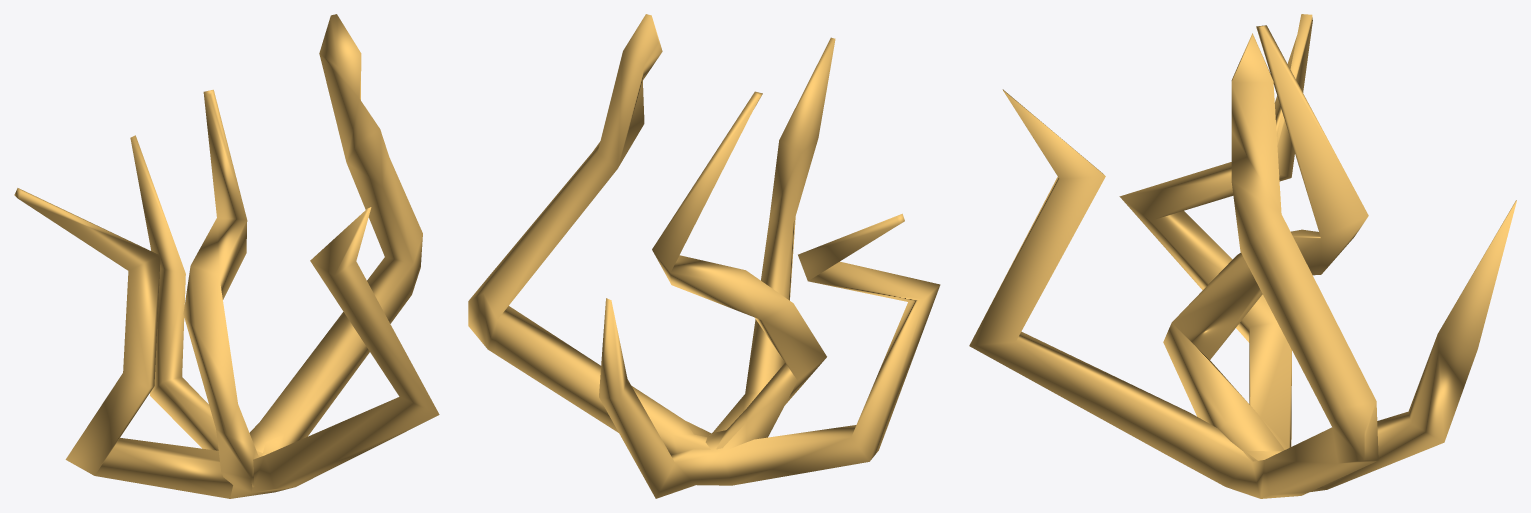
Rendered from Tumbleweed.fbx.
3 views of the same model, side by side, from view 1: azimuth 30°, elevation 25°; view 2: azimuth 150°, elevation 25°; view 3: azimuth 270°, elevation 25° (orthographic). The views are drawn at different scales.
Visible parts, largest first — view 1: Tumbleweed; view 2: Tumbleweed; view 3: Tumbleweed.
Part boxes in pixels (bbox=[...]): Tumbleweed: bbox=[14, 14, 439, 498]; Tumbleweed: bbox=[468, 14, 940, 498]; Tumbleweed: bbox=[969, 14, 1516, 498].
Bounding box in the file's own units: 30.08 × 30.48 × 30.44.
